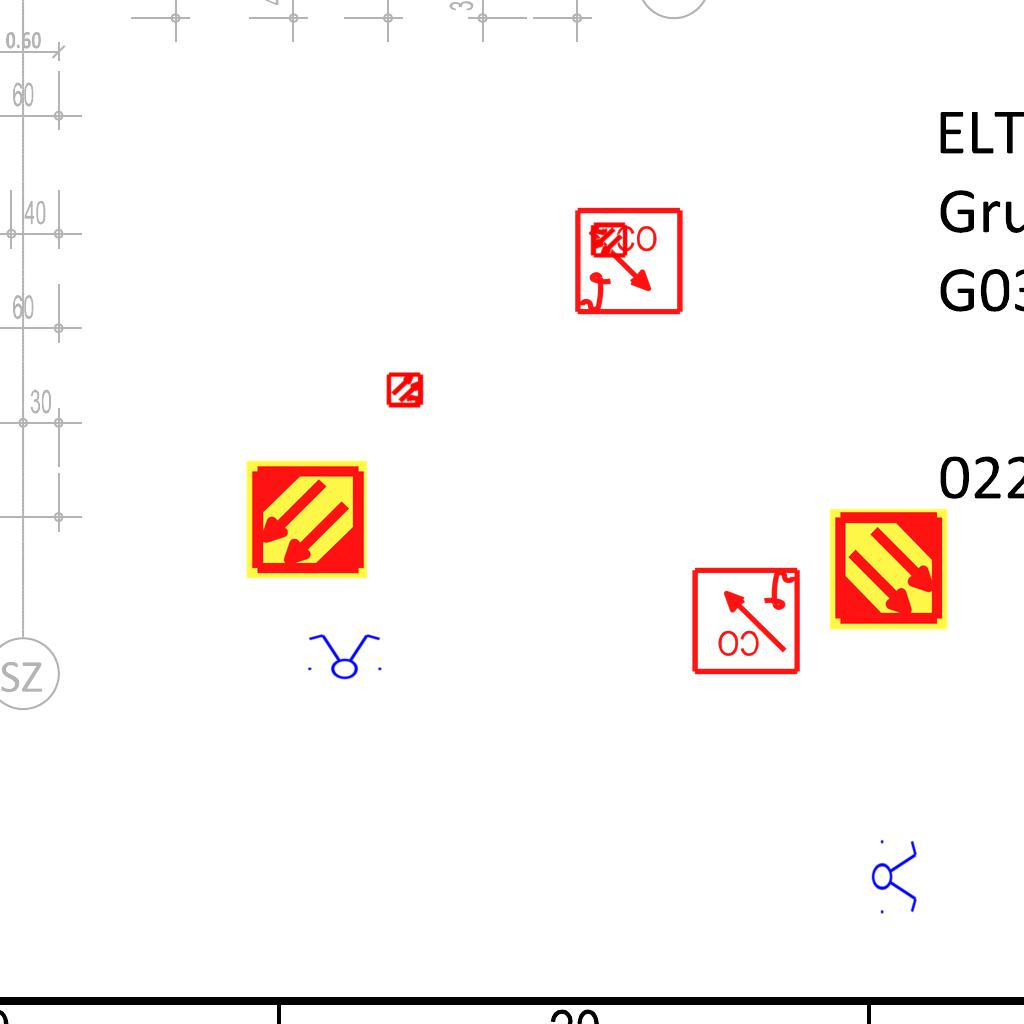ASR_Ansaugrauchmelder: (826, 507, 951, 632), (244, 457, 369, 582)
OT_Multisensormelder_(Kombination_RMO_WMD): (378, 362, 434, 418), (580, 212, 636, 268)
ROA_Rauchmelder_optisch_mit_Signalgeber_(Sockelsirene): (689, 563, 802, 676), (573, 206, 686, 319)
Serienschalter: (871, 834, 919, 918), (302, 632, 386, 680)
